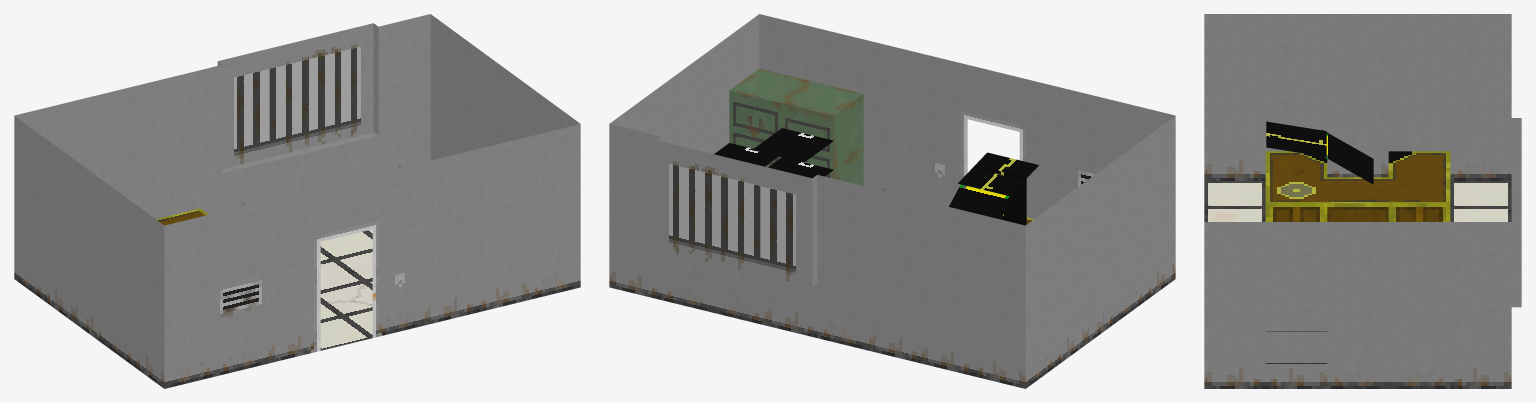
The model's file is office.glb.
The picture shows the model from 3 angles, left to right: view 1: azimuth 30°, elevation 25°; view 2: azimuth 150°, elevation 25°; view 3: azimuth 270°, elevation 25°; orthographic projection. The views are drawn at different scales.
Parts seen in each view (by area): view 1: Cube; view 2: Cube; view 3: Cube.
Boxes of the visible parts, left/top/right/bottom form: Cube: left=14, top=14, right=580, bottom=388; Cube: left=609, top=14, right=1175, bottom=388; Cube: left=1204, top=14, right=1521, bottom=388.
Bounding box in the file's own units: 8.02 × 3 × 5.16.
Materials: 4 (4 with a texture image).
